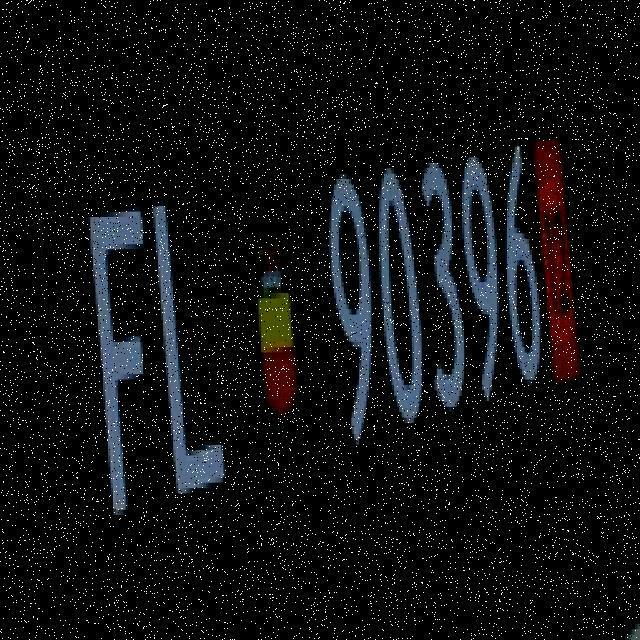LicensePlate: (29, 24, 624, 605)
